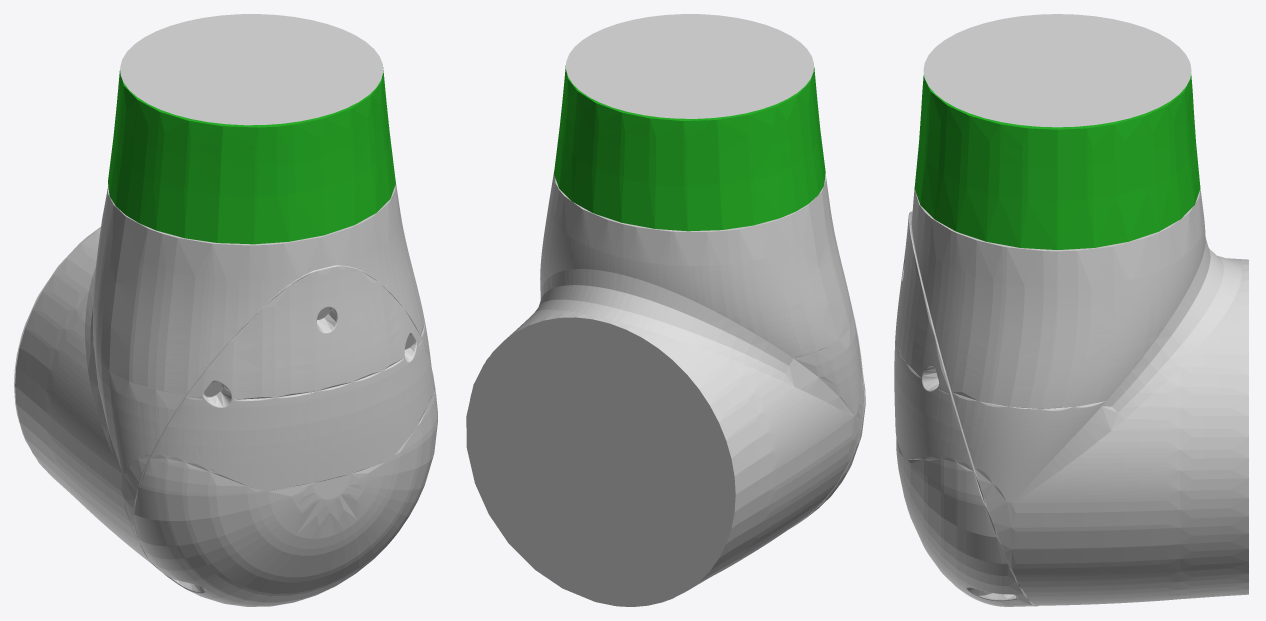
3 renders of one model, left to right at view 1: azimuth 30°, elevation 25°; view 2: azimuth 150°, elevation 25°; view 3: azimuth 270°, elevation 25°, orthographic. The views are drawn at different scales.
Parts seen in each view (by area): view 1: node; view 2: node; view 3: node.
Boxes of the visible parts, bbox=[...] form: node: bbox=[14, 14, 437, 606]; node: bbox=[466, 14, 865, 606]; node: bbox=[894, 14, 1248, 606].
Bounding box in the file's own units: 140 × 224 × 140.
